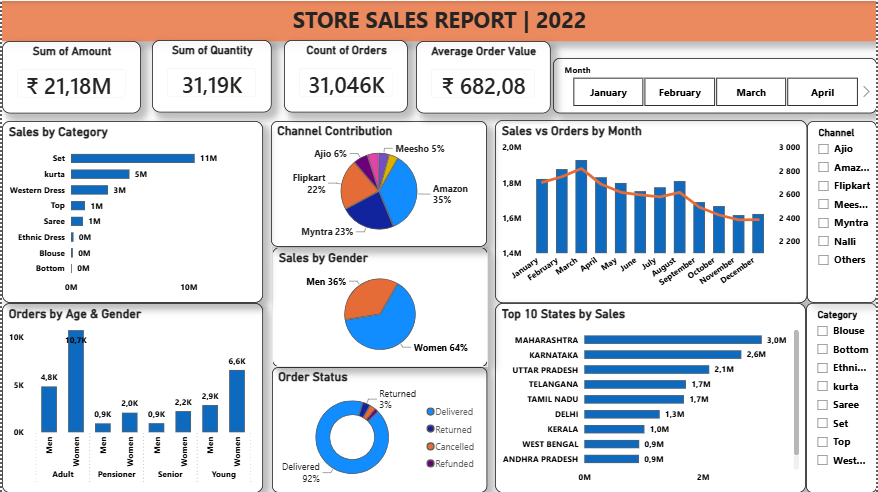

The dashboard page shown, as its layout file describes it:
{"tool":"powerbi","page":{"name":"Page 1","canvas":[1280,720],"ordinal":0},"visuals":[{"type":"textbox","box":[0,0,1280.5,58.5],"z":0},{"type":"lineClusteredColumnComboChart","title":"Sales vs Orders by  Month","fields":{"Category":["VrindaStore.Date.Variation.Date Hierarchy.Month"],"Y":["Sum(VrindaStore.Amount)"],"Y2":["CountNonNull(VrindaStore.Order ID)"]},"box":[721.5,174.1,456.6,267.8],"z":1000},{"type":"columnChart","title":"Orders by Age & Gender","fields":{"Y":["CountNonNull(VrindaStore.Order ID)"],"Category":["VrindaStore.AgeGroup","VrindaStore.Gender"]},"box":[0,442,382,278],"z":2000},{"type":"donutChart","title":"Order Status","fields":{"Category":["VrindaStore.Status"],"Y":["CountNonNull(VrindaStore.Order ID)"]},"box":[395.1,535.6,314.6,184.4],"z":3000},{"type":"barChart","title":"Top 10 States by Sales","fields":{"Category":["VrindaStore.ship-state"],"Y":["Sum(VrindaStore.Amount)"]},"box":[721.5,442,455.1,278],"z":4000},{"type":"pieChart","title":"Sales by Gender","fields":{"Category":["VrindaStore.Gender"],"Y":["Sum(VrindaStore.Amount)"]},"box":[395.1,360,316.1,175.6],"z":5000},{"type":"pieChart","title":"Channel Contribution","fields":{"Category":["VrindaStore.Channel "],"Y":["CountNonNull(VrindaStore.Order ID)"]},"box":[393.7,175.6,316.1,184.4],"z":6000},{"type":"cardVisual","title":"Sum of Amount","fields":{"Data":["Sum(VrindaStore.Amount)"]},"box":[0,58.5,191.7,105.4],"z":7000},{"type":"cardVisual","title":"Sum of Quantity","fields":{"Data":["Sum(VrindaStore.Qty)"]},"box":[197.6,58.5,184.4,105.4],"z":8000},{"type":"slicer","fields":{"Values":["VrindaStore.Date.Variation.Date Hierarchy.Month"]},"box":[793.2,83.4,487.3,80.5],"z":9000},{"type":"slicer","fields":{"Values":["VrindaStore.Category"]},"box":[1176.6,442,103.9,278],"z":10000},{"type":"slicer","fields":{"Values":["VrindaStore.Channel "]},"box":[1178,175.6,102.4,266.3],"z":11000},{"type":"barChart","title":"Sales by Category","fields":{"Category":["VrindaStore.Category"],"Y":["Sum(VrindaStore.Amount)"]},"box":[0,175.6,382,266.3],"z":12000},{"type":"cardVisual","title":"Count of Orders","fields":{"Data":["CountNonNull(VrindaStore.Order ID)"]},"box":[393.7,58.5,181.5,105.4],"z":13000},{"type":"cardVisual","title":"Average Order Value","fields":{"Data":["VrindaStore.AOV"]},"box":[591.2,58.5,188.8,105.4],"z":13001}]}

Visuals, with their boxes in screenshot pixels (x1, y1, x2, y2), scaled from the page's 1280x720 canvas onto the 878x492 screenshot:
textbox: <box>0,0,877,40</box>
"Sales vs Orders by  Month" lineClusteredColumnComboChart: <box>495,119,808,302</box>
"Orders by Age & Gender" columnChart: <box>0,302,262,491</box>
"Order Status" donutChart: <box>271,366,487,491</box>
"Top 10 States by Sales" barChart: <box>495,302,807,491</box>
"Sales by Gender" pieChart: <box>271,246,488,366</box>
"Channel Contribution" pieChart: <box>270,120,487,246</box>
"Sum of Amount" cardVisual: <box>0,40,131,112</box>
"Sum of Quantity" cardVisual: <box>136,40,262,112</box>
slicer - VrindaStore.Date.Variation.Date Hierarchy.Month: <box>544,57,877,112</box>
slicer - VrindaStore.Category: <box>807,302,877,491</box>
slicer - VrindaStore.Channel : <box>808,120,877,302</box>
"Sales by Category" barChart: <box>0,120,262,302</box>
"Count of Orders" cardVisual: <box>270,40,395,112</box>
"Average Order Value" cardVisual: <box>406,40,535,112</box>
